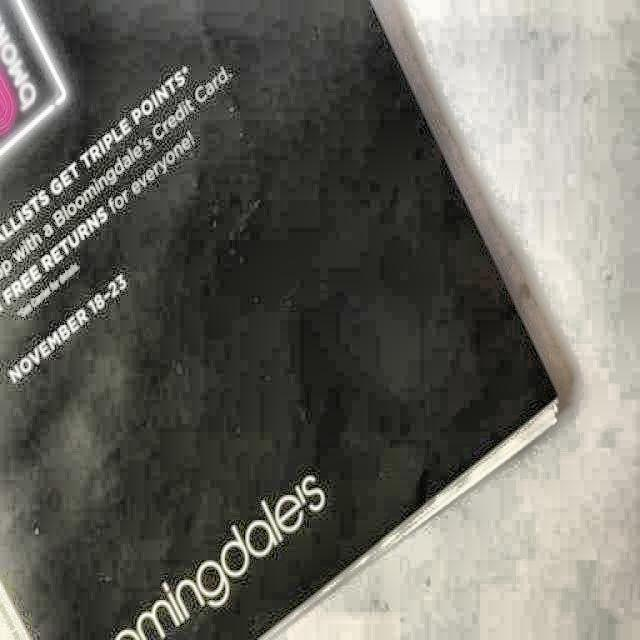Paper: (0, 0, 557, 638)
